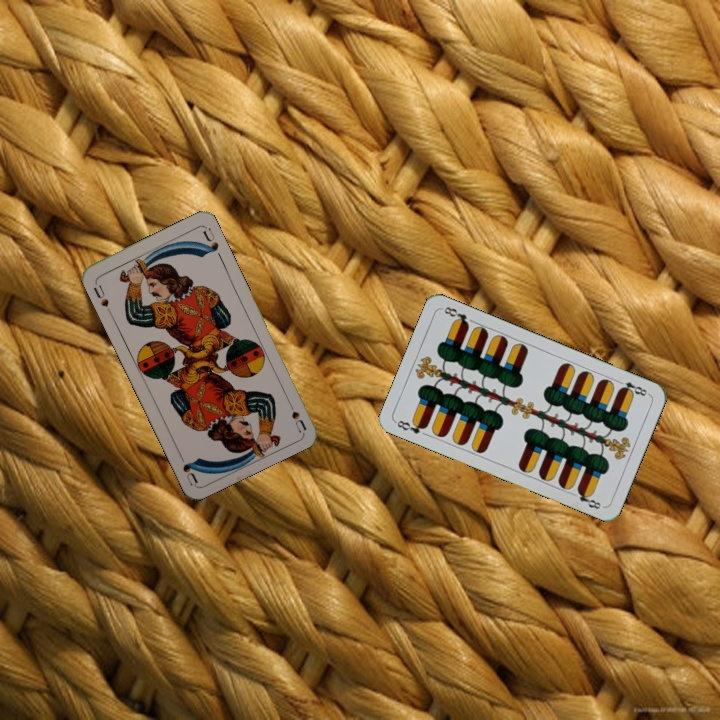E8: (613, 376, 651, 399), (392, 416, 430, 437)
SU: (283, 395, 308, 434), (89, 278, 114, 316)
